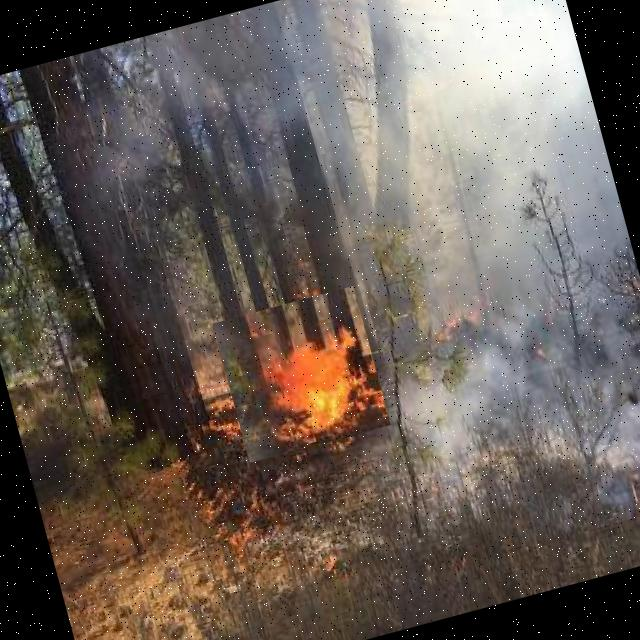fire: (212, 285, 390, 462)
